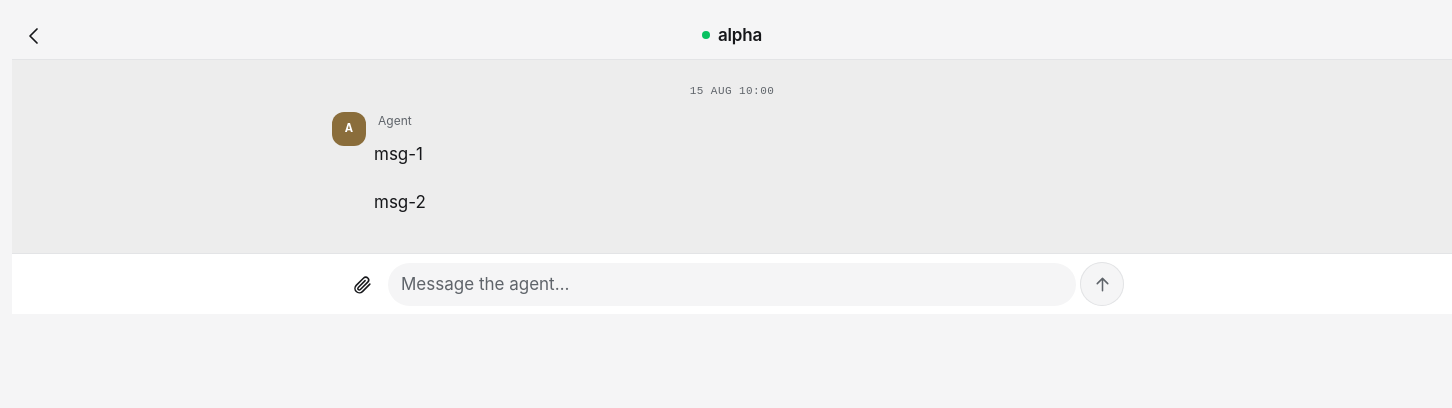
a failed send becomes a retryable bubble and empties the composer
Expected: the text "msg-1" is shown, [374,144,423,164]
In the text box: (732,285) [388,263,1076,306], type "important command"
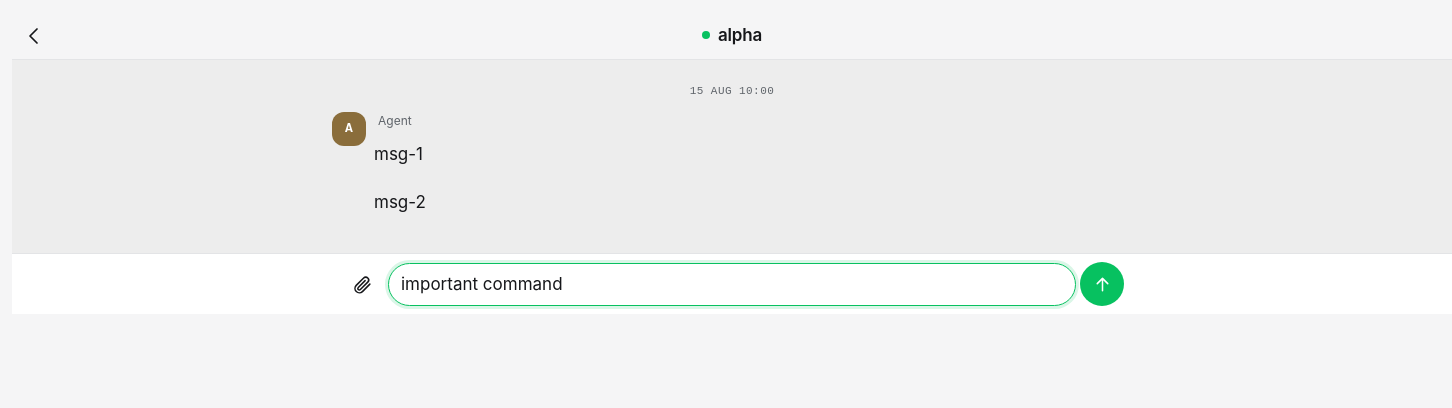
Click the button named "send": (1102,284) [1080,262,1124,306]
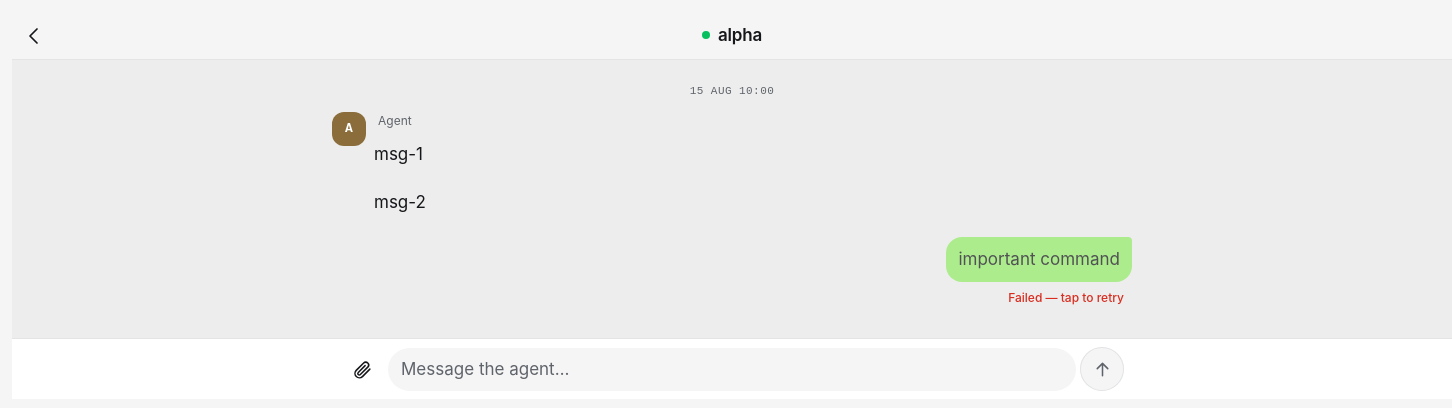
Expected: the text "important command" is shown, [958,245,1120,274]
Expected: the text box is empty, [388,348,1076,391]
Click the button "Failed — tap to retry": (1066,298) [1000,285,1132,310]
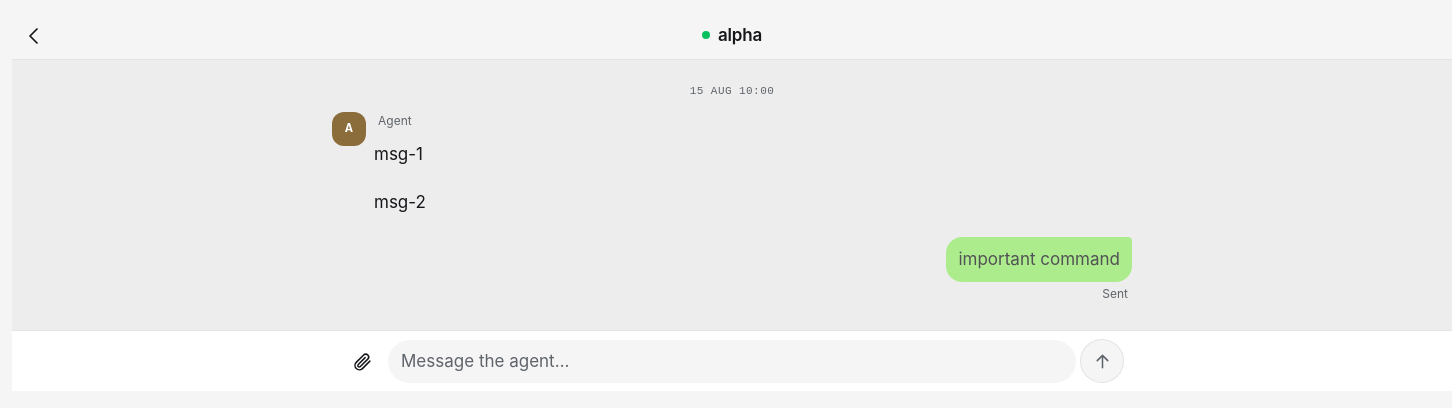
Expected: the text "Sent" is shown, [1102,285,1128,302]
